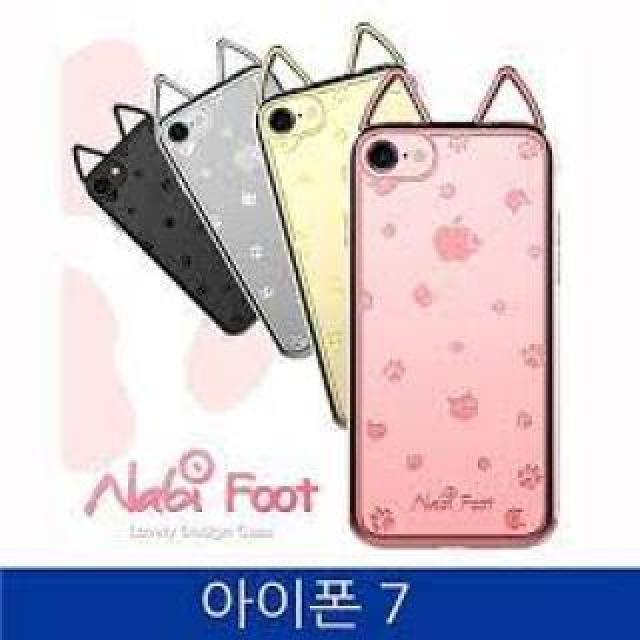smart phone: (346, 89, 602, 554), (163, 37, 302, 373), (253, 71, 382, 392)
